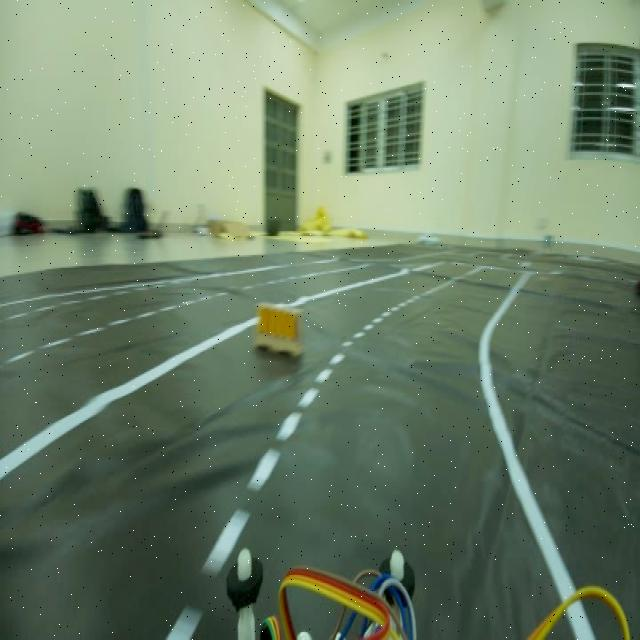roadblock: (249, 293, 304, 358)
